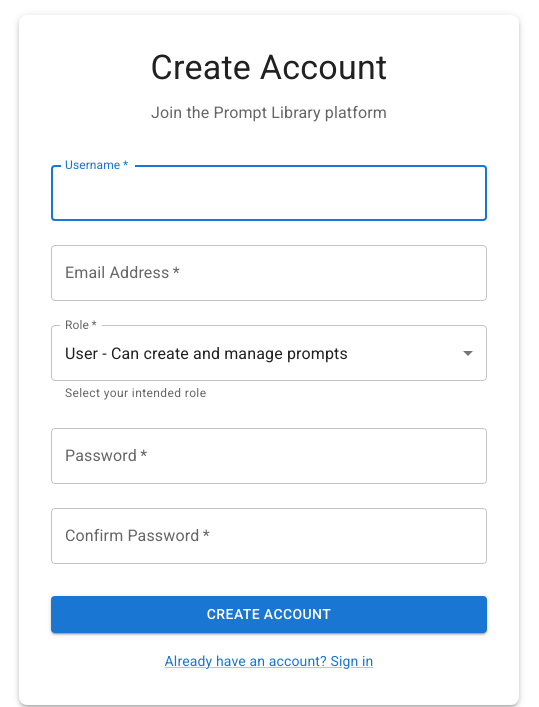
Test case: RegisterPage › shows password mismatch error
Type "Password123!" into the password field labelled "Password *" at {"x": 269, "y": 456}, box [51,428,487,484]
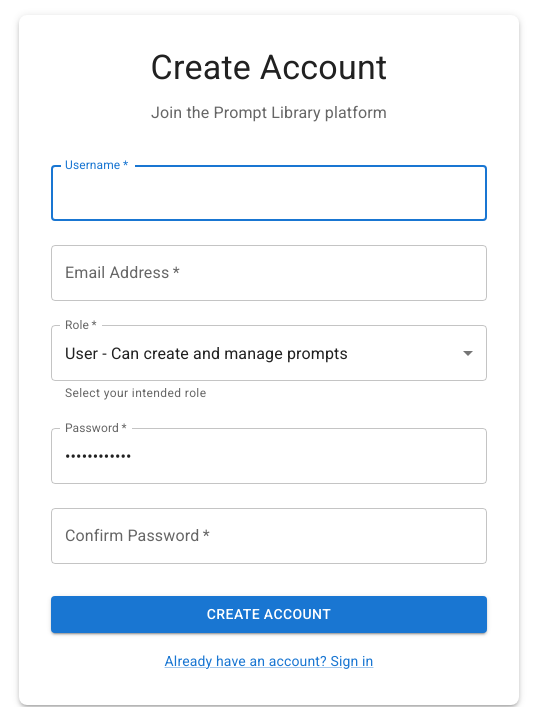
Type "DifferentPassword123!" into the password field labelled "Confirm Password *" at {"x": 269, "y": 536}, box [51,508,487,564]
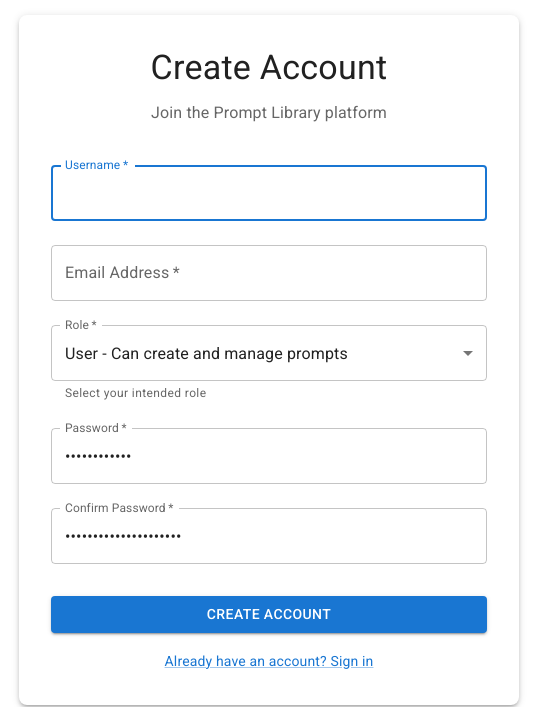
Click the button "Create Account" at {"x": 269, "y": 614}, box [51,596,487,633]
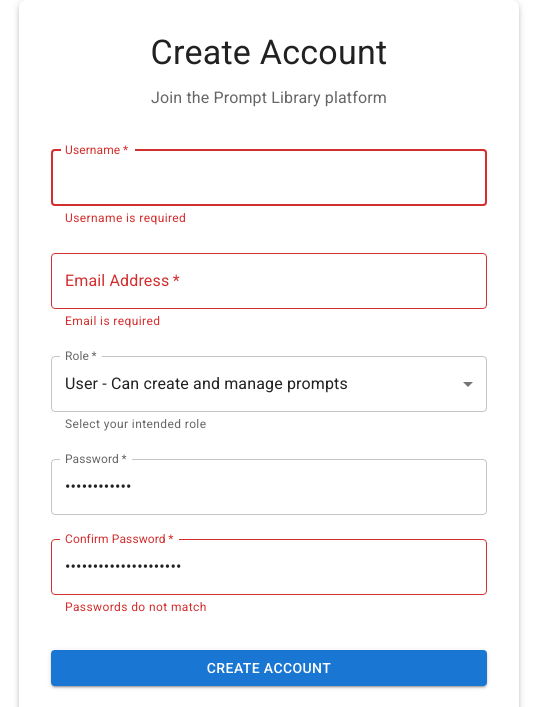
Check: the text "Passwords do not match" is shown, box [65,600,207,614]
